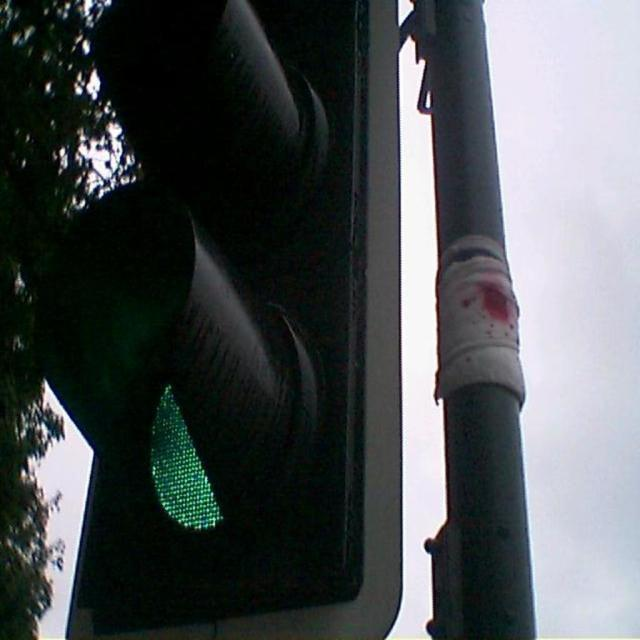traffic light: (40, 0, 364, 621)
